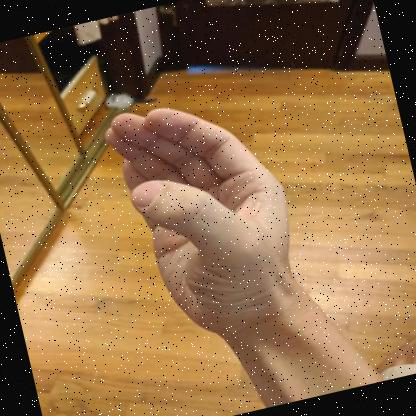C: (105, 108, 321, 342)
